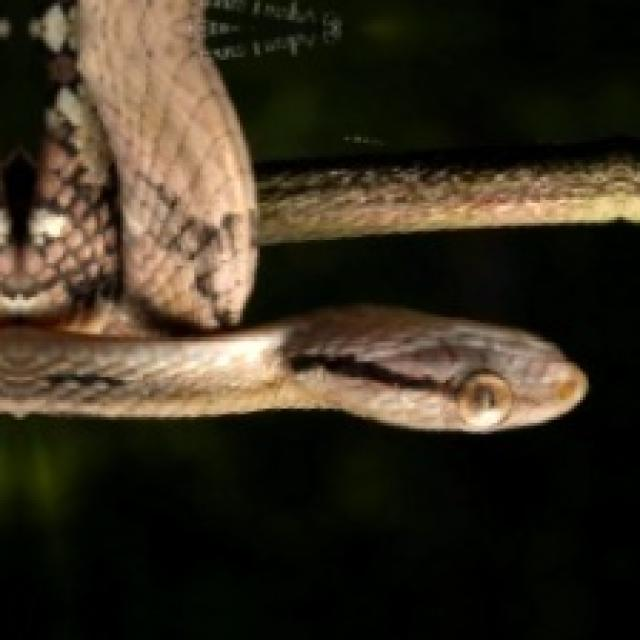dog-toothed cat snake: (0, 0, 586, 429)
